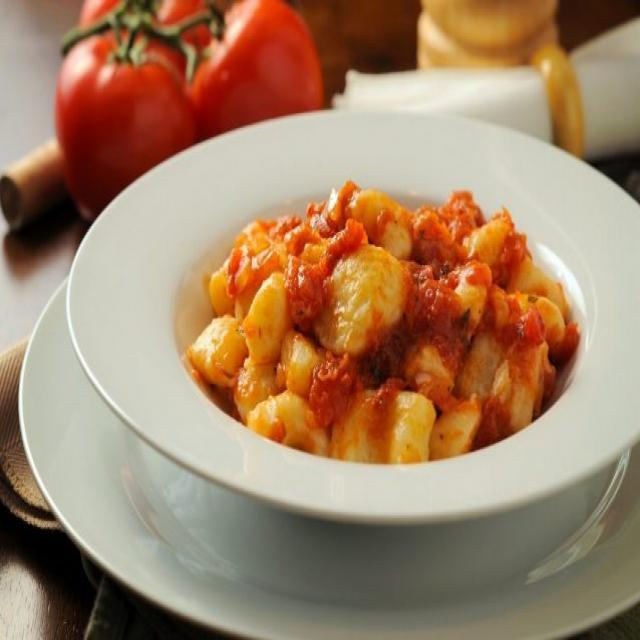Pasta al ragu: (154, 142, 596, 523)
